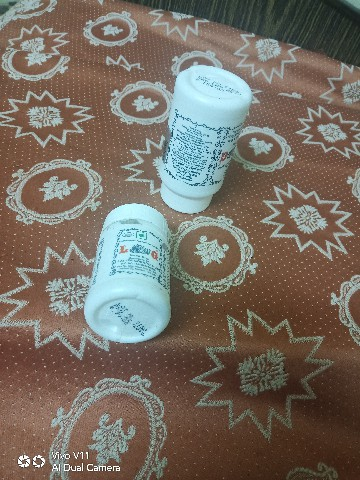lgasafoetidapowder large: (151, 55, 259, 217)
lgasafoetidapowder small: (79, 196, 185, 344)
